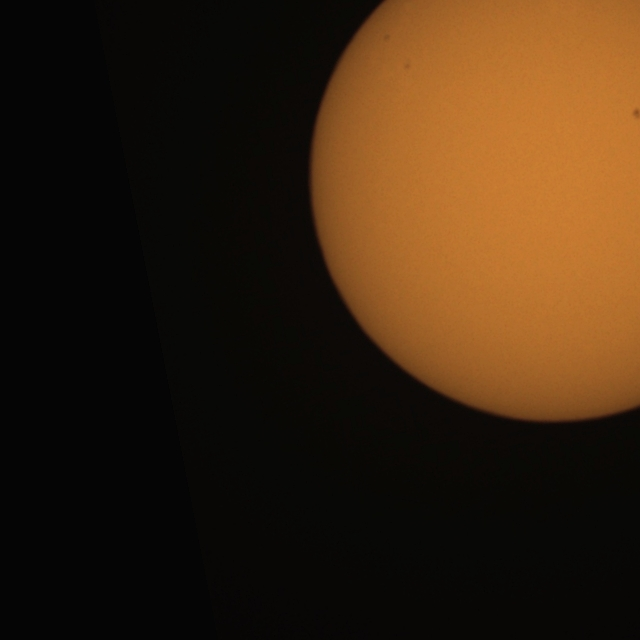sunspot: (631, 106, 640, 122)
